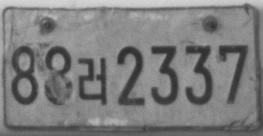2: (116, 45, 145, 106)
3: (150, 44, 179, 106), (184, 44, 213, 105)
7: (218, 44, 249, 104)
8: (44, 45, 73, 105), (10, 45, 38, 105)
러: (77, 56, 106, 106)
